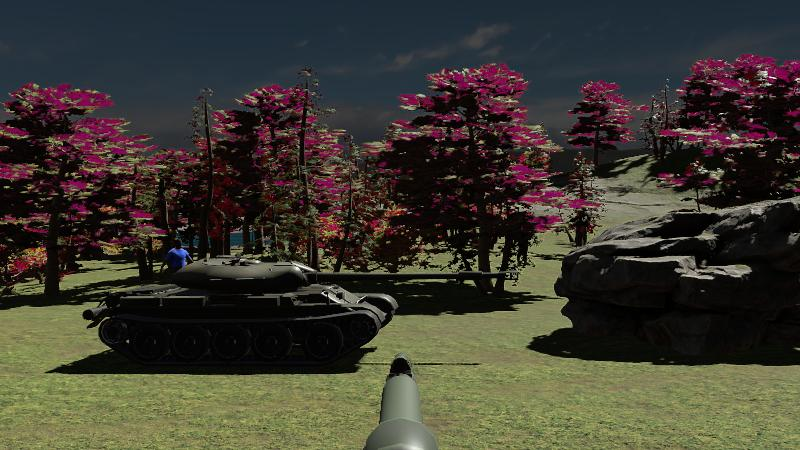Tank: (83, 260, 510, 372)
